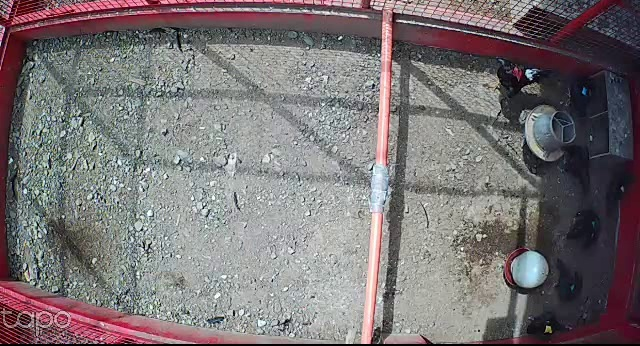Chicken: (553, 140, 593, 197), (566, 204, 606, 254), (525, 309, 577, 345), (550, 258, 586, 309), (562, 74, 600, 122)
Drinker: (505, 247, 549, 291)
Feeder: (524, 102, 577, 162)
Rooster: (489, 57, 555, 99)
Saddle_Color_Blue: (579, 86, 588, 95)
Saddle_Color_Yellow: (544, 325, 552, 332)
